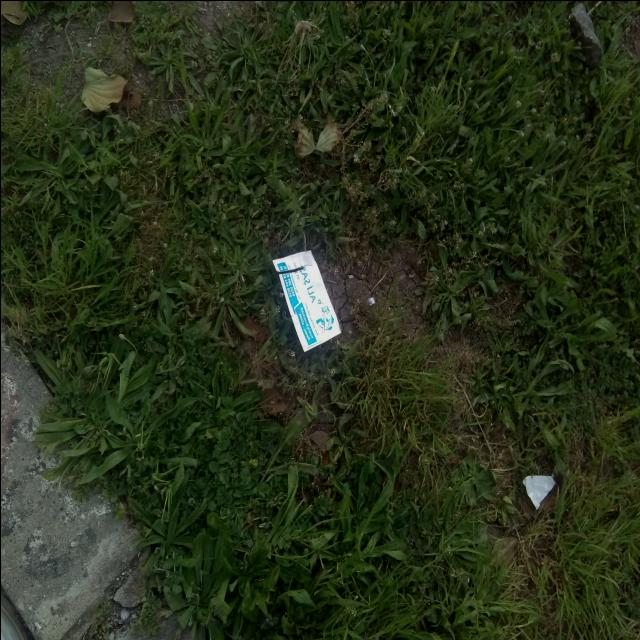Other plastic: (272, 249, 340, 350), (522, 475, 555, 507)
